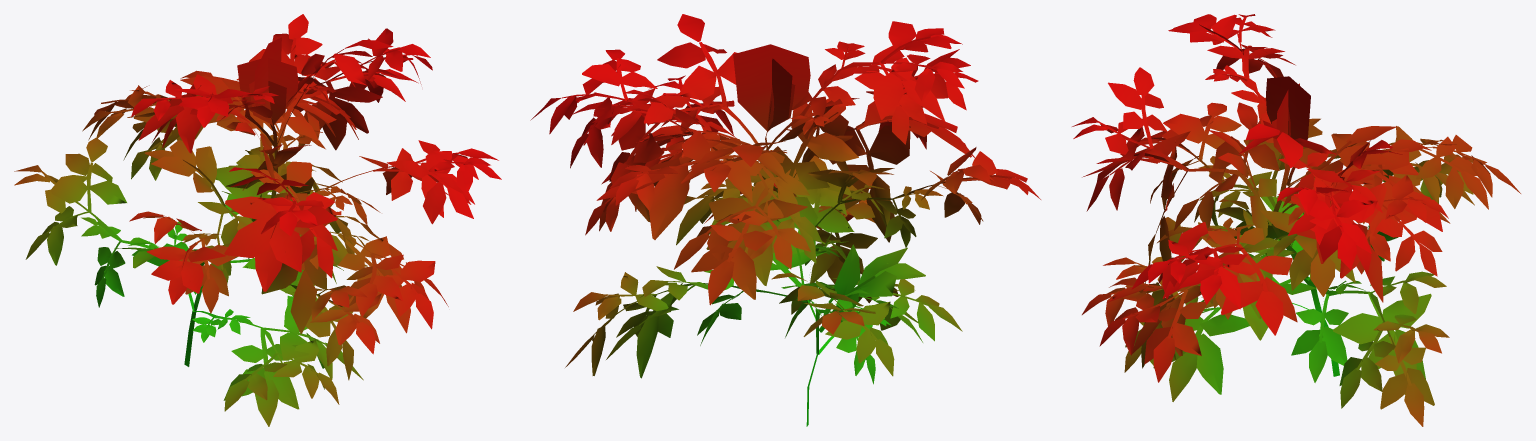
File: Var4_LOD2.fbx
3 views of the same model, side by side, from view 1: azimuth 30°, elevation 25°; view 2: azimuth 150°, elevation 25°; view 3: azimuth 270°, elevation 25° (orthographic). The views are drawn at different scales.
Parts seen in each view (by area): view 1: _g3am_Var4_LOD2; view 2: _g3am_Var4_LOD2; view 3: _g3am_Var4_LOD2.
Part boxes in pixels (x1,y1,x2,y2): _g3am_Var4_LOD2: (14, 14, 501, 426); _g3am_Var4_LOD2: (530, 14, 1040, 426); _g3am_Var4_LOD2: (1072, 14, 1520, 426).
Bounding box in the file's own units: 101 × 84.61 × 104.
